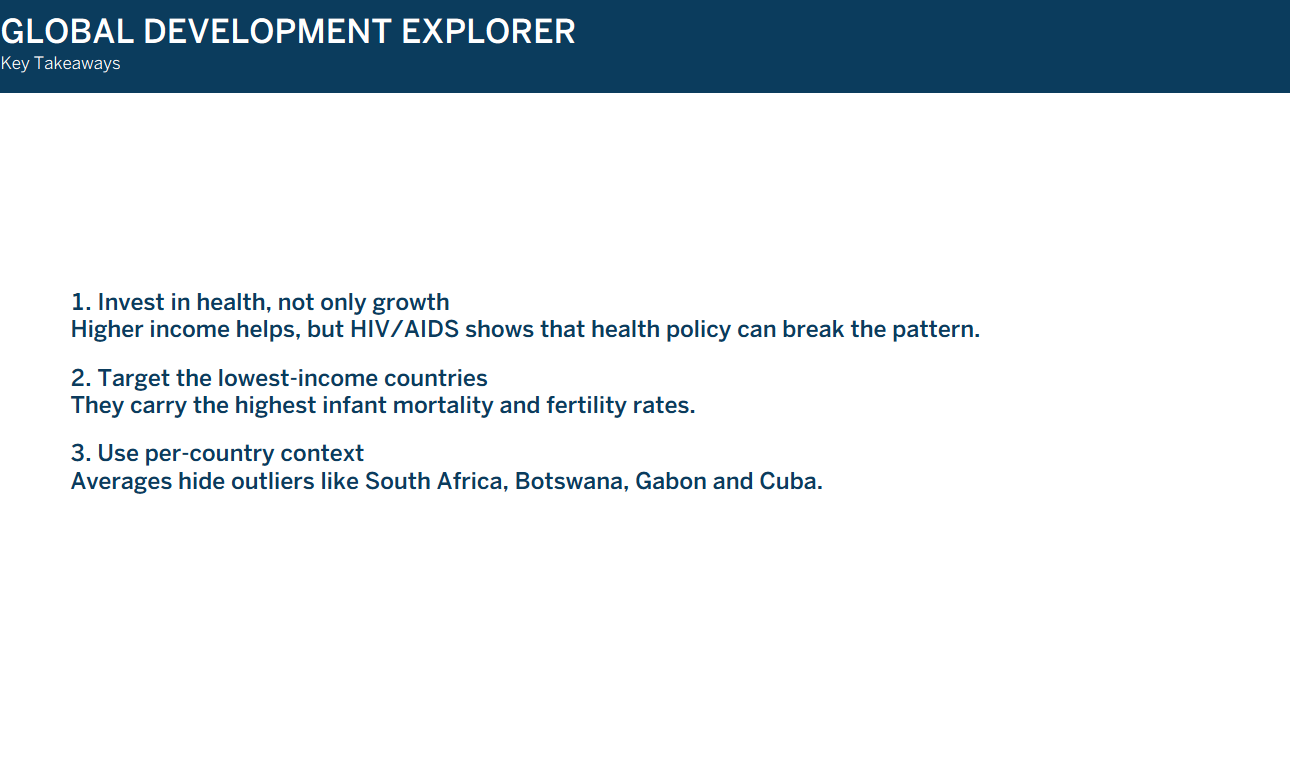

The dashboard page shown, as its layout file describes it:
{"tool":"tableau","page":{"name":"Key Takeaways","canvas":[1300,800],"ordinal":1},"visuals":[{"type":"text","box":[0,0,1300,100]},{"type":"text","box":[40,140,1220,520]}]}

Visuals, with their boxes in screenshot pixels (x1, y1, x2, y2), scaled from the page's 1300x800 canvas onto the 1290x779 screenshot:
text: (left=0, top=0, right=1289, bottom=97)
text: (left=40, top=136, right=1250, bottom=643)
